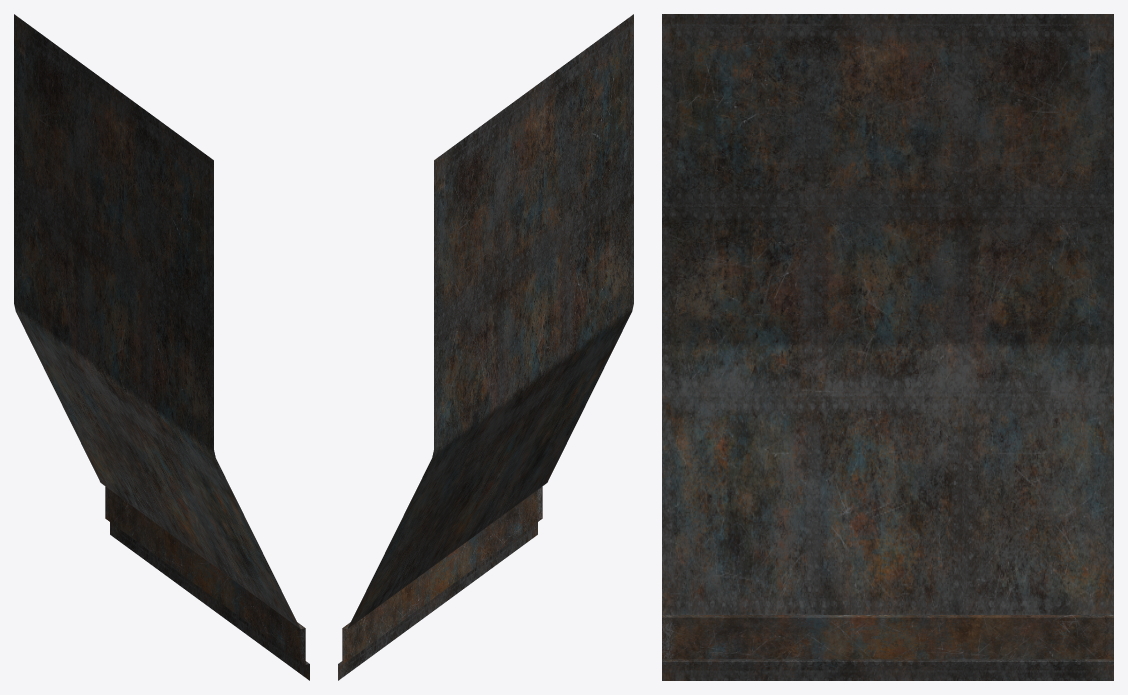
Rendered from Basement_Corridor_C_Wall_2m_Cruved.glb.
3 views of the same model, side by side, from view 1: azimuth 30°, elevation 25°; view 2: azimuth 150°, elevation 25°; view 3: azimuth 270°, elevation 25° (orthographic). The views are drawn at different scales.
Visible parts, largest first — view 1: Basement_Corridor_C_Wall_2m_Cruved; view 2: Basement_Corridor_C_Wall_2m_Cruved; view 3: Basement_Corridor_C_Wall_2m_Cruved.
Part boxes in pixels (box(x1,y1,x2,y2)): Basement_Corridor_C_Wall_2m_Cruved: box(14, 14, 309, 680); Basement_Corridor_C_Wall_2m_Cruved: box(338, 14, 633, 680); Basement_Corridor_C_Wall_2m_Cruved: box(662, 14, 1113, 680).
Bounding box in the file's own units: 0.5532 × 3 × 2.
Materials: 2 (2 with a texture image).
